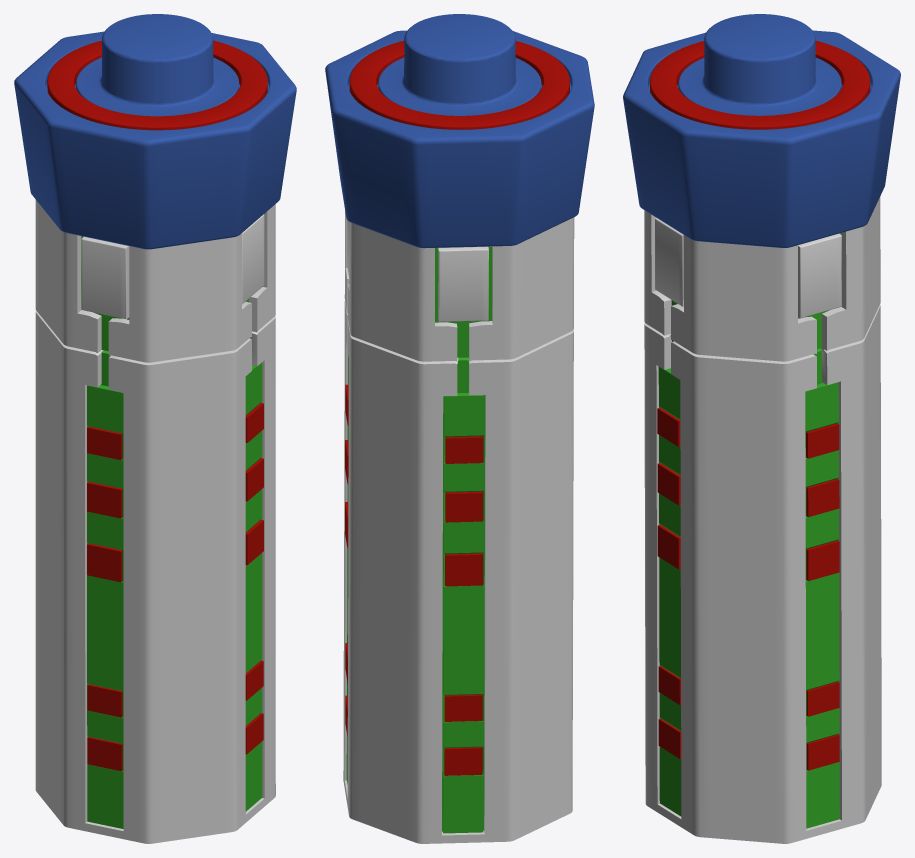
The model's file is clip one.fbx.
3 renders of one model, left to right at view 1: azimuth 30°, elevation 25°; view 2: azimuth 150°, elevation 25°; view 3: azimuth 270°, elevation 25°, orthographic.
Visible parts, largest first — view 1: clip.001; view 2: clip.001; view 3: clip.001.
Part boxes in pixels (bbox=[...]): clip.001: bbox=[14, 14, 296, 843]; clip.001: bbox=[325, 14, 594, 843]; clip.001: bbox=[623, 14, 900, 843].
Bounding box in the file's own units: 43.14 × 131 × 43.14.
